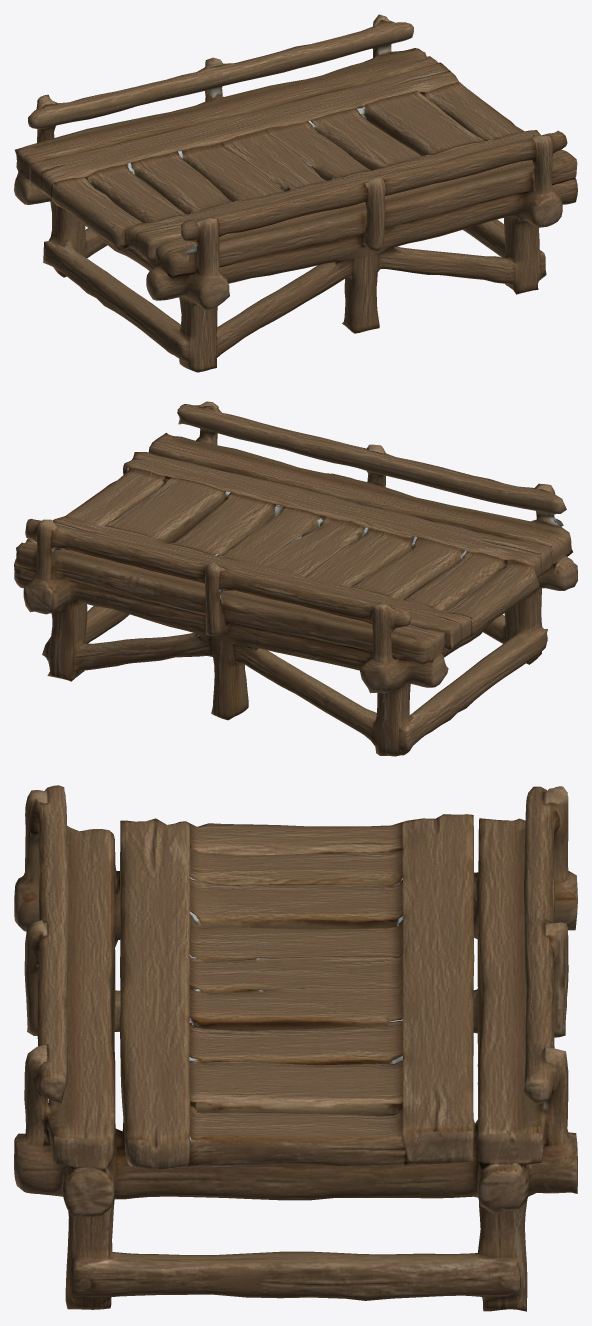
File: wooden+bridge+3d+model.fbx
3 renders of one model, top to bottom at view 1: azimuth 30°, elevation 25°; view 2: azimuth 150°, elevation 25°; view 3: azimuth 270°, elevation 25°, orthographic. The views are drawn at different scales.
Visible parts, largest first — view 1: tripo_node_f18ecba4; view 2: tripo_node_f18ecba4; view 3: tripo_node_f18ecba4.
Boxes of the visible parts, bbox=[...] form: tripo_node_f18ecba4: bbox=[14, 14, 577, 372]; tripo_node_f18ecba4: bbox=[14, 401, 577, 756]; tripo_node_f18ecba4: bbox=[14, 785, 577, 1311].
Bounding box in the file's own units: 99.84 × 36.77 × 72.88.
1 material, 1 textured.
